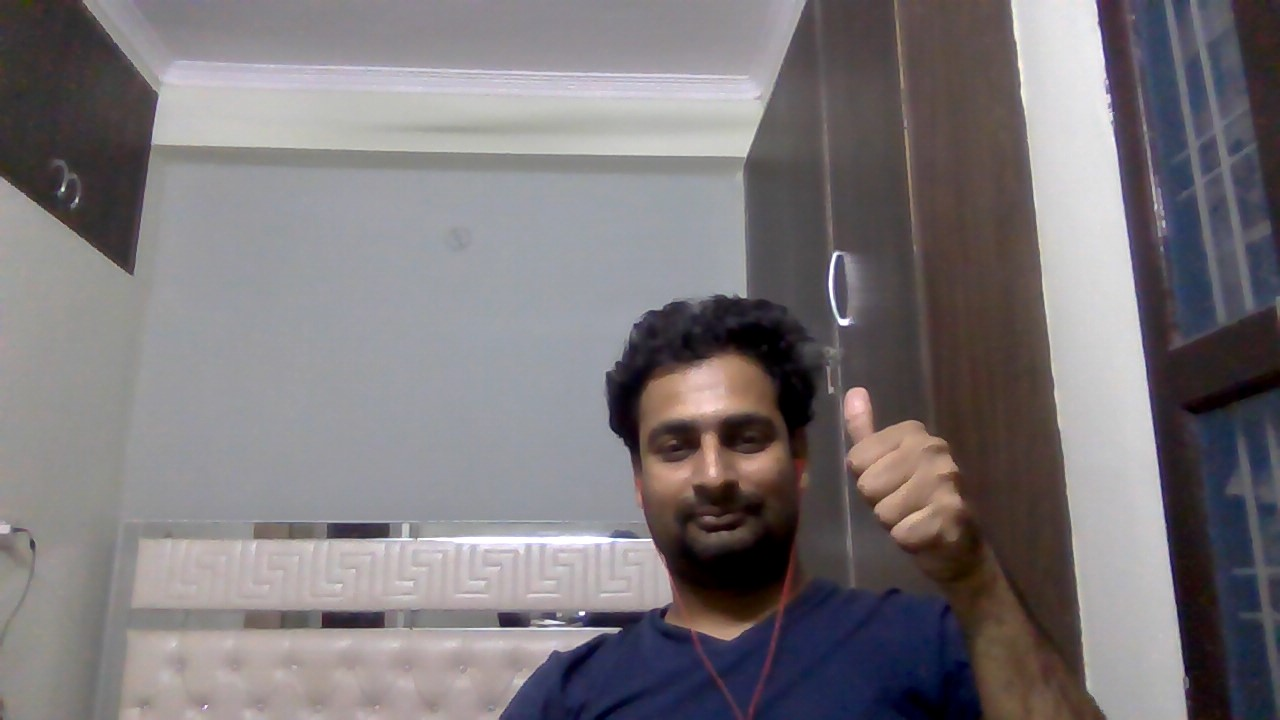Save: (826, 379, 996, 586)
